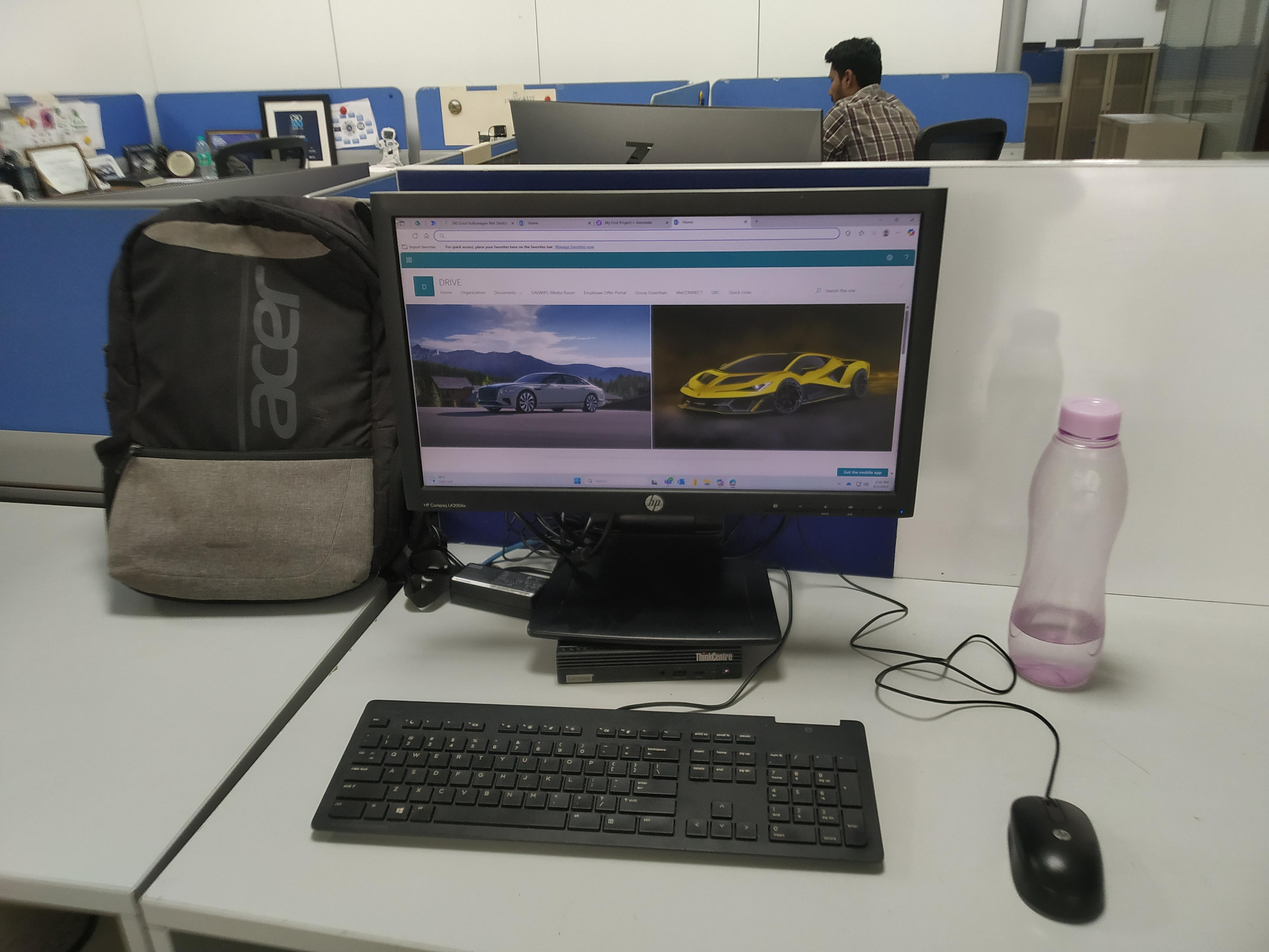bag: (84, 188, 401, 605)
bottle: (993, 389, 1148, 704)
desktop: (360, 182, 958, 653)
keyboard: (298, 694, 893, 878)
mouse: (1000, 783, 1122, 940)
